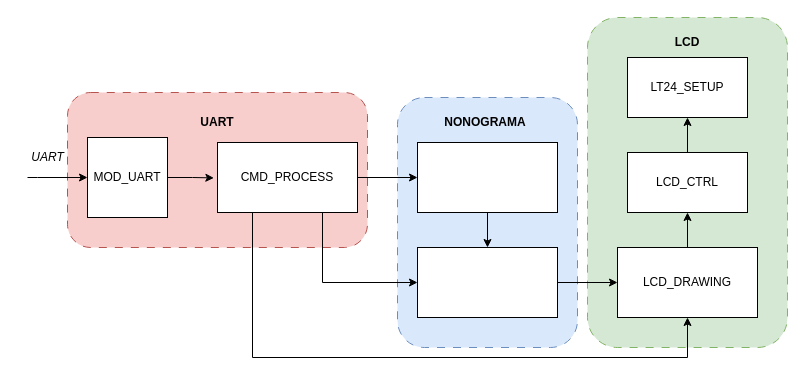
The diagram is 805 pixels wide and 383 high, and some of its shapes have lost their labels. Each missing label, with the centre of its shape:
NONO_CURSOR: (x=487, y=177)
NONO_GRAPHICS: (x=487, y=282)
